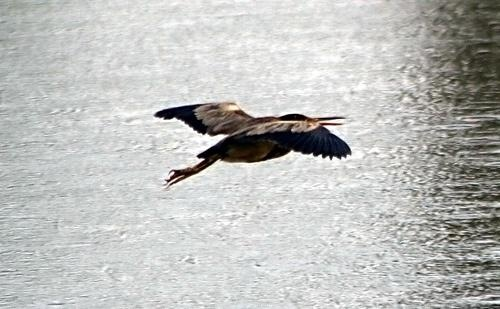bird: (157, 98, 355, 188)
